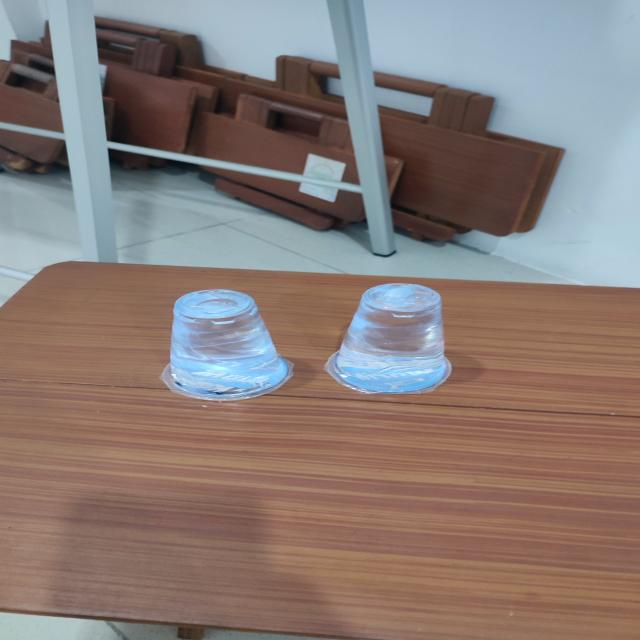air gelas: (145, 286, 297, 412), (323, 275, 466, 400)
